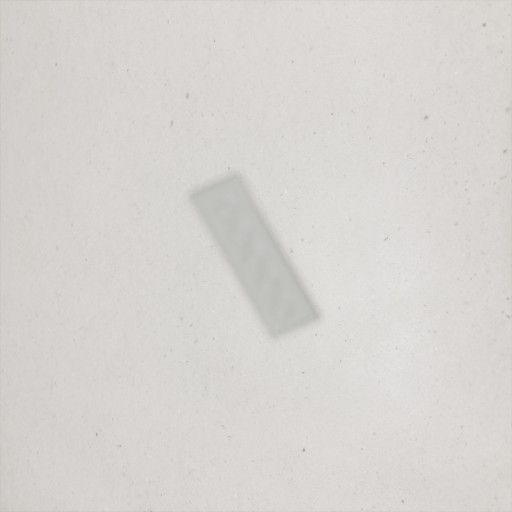lego: (186, 170, 323, 342)
